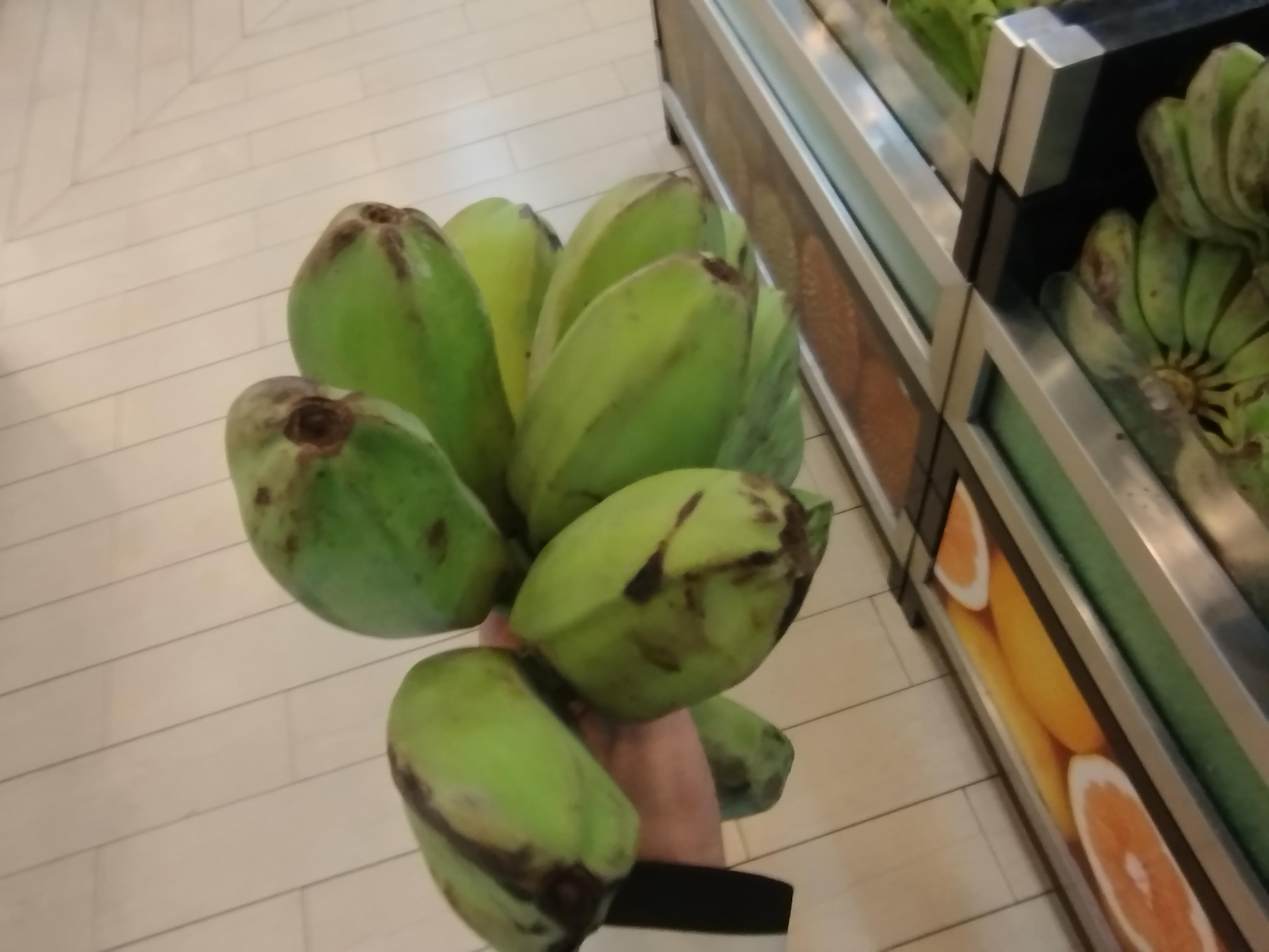underripe: (225, 173, 833, 952), (1063, 198, 1269, 566), (1139, 43, 1269, 243)
